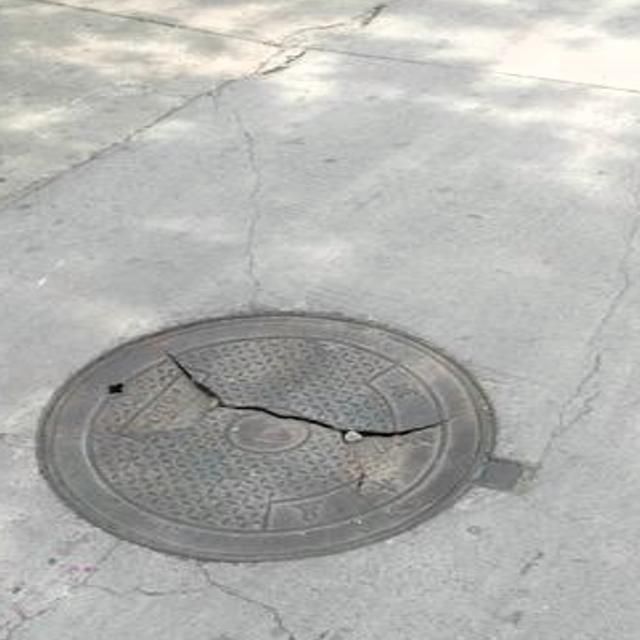broke: (26, 296, 535, 573)
